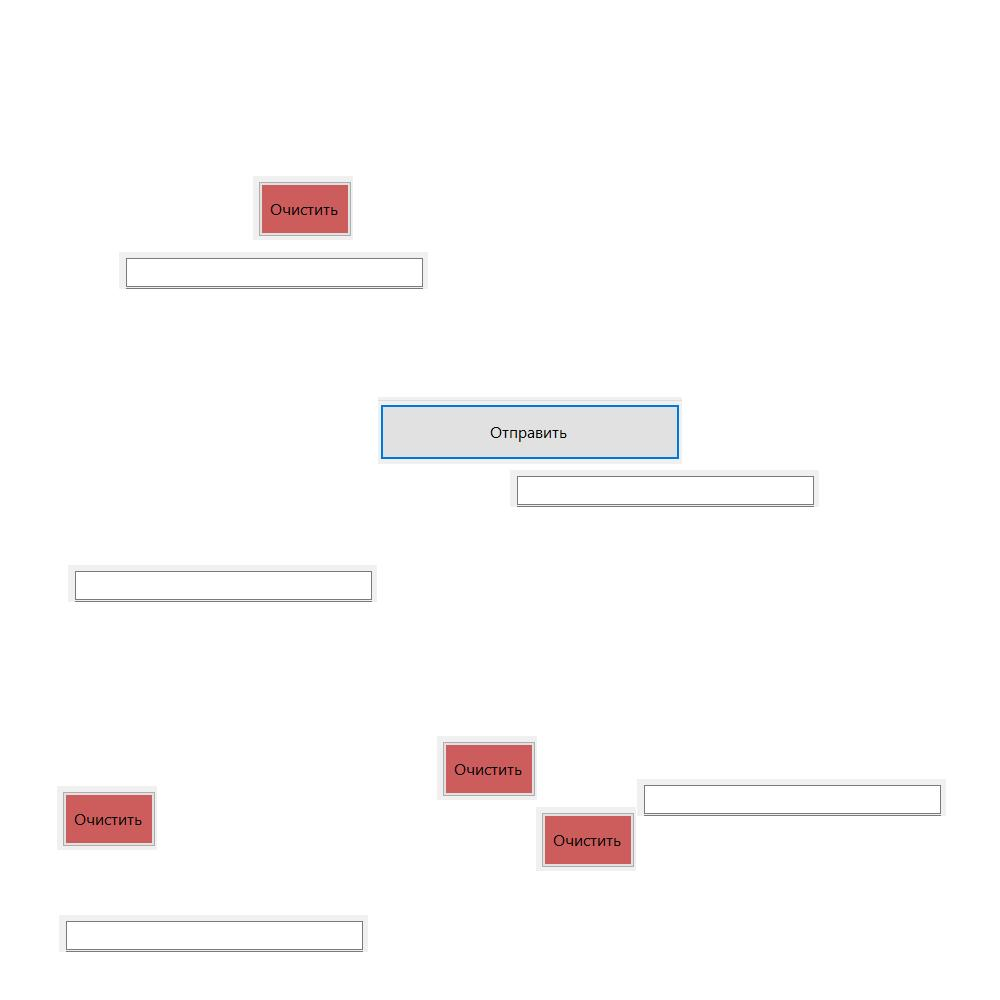Button: (378, 397, 682, 464), (536, 807, 636, 871), (437, 736, 537, 800), (57, 786, 157, 850), (253, 176, 353, 240)
EditText-: (119, 252, 428, 289), (510, 470, 819, 507), (637, 779, 946, 816), (68, 565, 377, 602), (59, 915, 368, 952)
